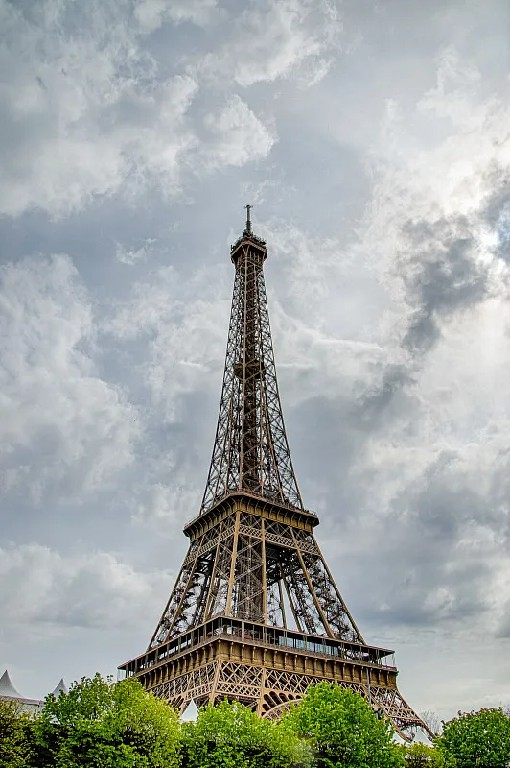Eiffel: (117, 204, 440, 749)
